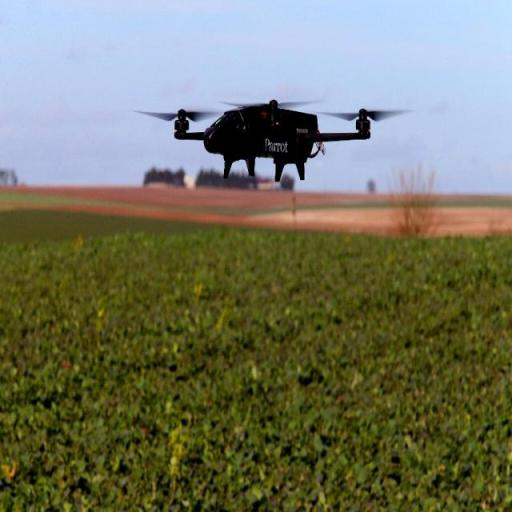uav: (126, 87, 416, 180)
